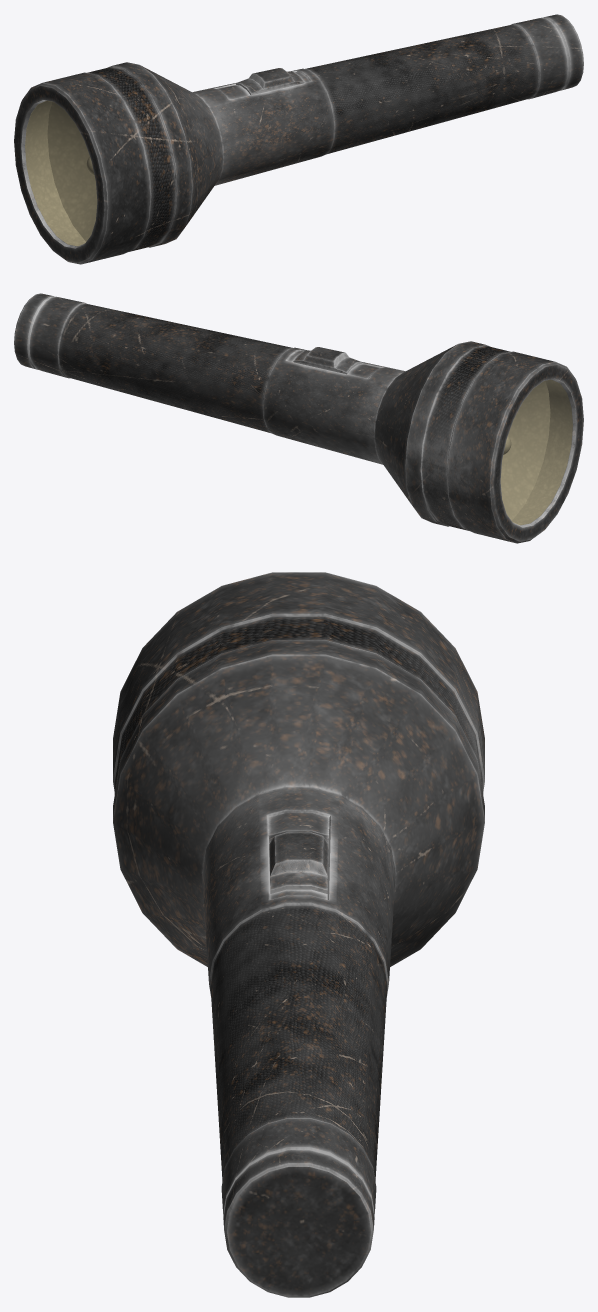
The model's file is flashlight.glb.
3 views of the same model, one above another, from view 1: azimuth 30°, elevation 25°; view 2: azimuth 150°, elevation 25°; view 3: azimuth 270°, elevation 25° (orthographic). The views are drawn at different scales.
Visible parts, largest first — view 1: Cylinder_0; view 2: Cylinder_0; view 3: Cylinder_0.
Part boxes in pixels (bbox=[...]): Cylinder_0: bbox=[14, 14, 583, 264]; Cylinder_0: bbox=[14, 293, 583, 543]; Cylinder_0: bbox=[113, 572, 484, 1297].
Size of the model in its own units: 4.74 by 1.49 by 1.51.
2 materials, 1 textured.
